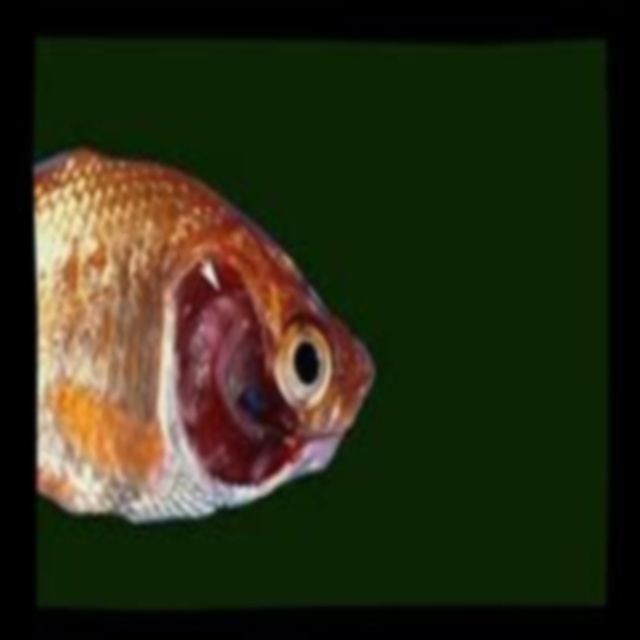Gill Disease: (35, 153, 378, 525)
